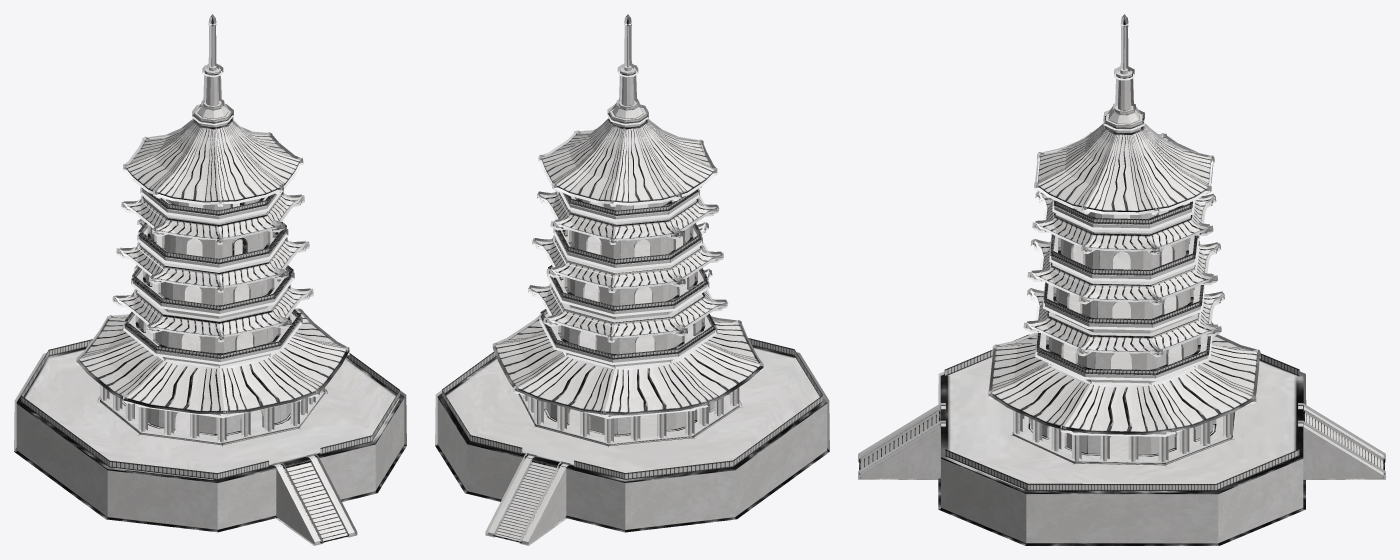
Rendered from SM_LeiFengTa.glb.
The picture shows the model from 3 angles, left to right: view 1: azimuth 30°, elevation 25°; view 2: azimuth 150°, elevation 25°; view 3: azimuth 270°, elevation 25°; orthographic projection. The views are drawn at different scales.
Visible parts, largest first — view 1: SM_leifengta_1, SM_leifengta_1.001; view 2: SM_leifengta_1, SM_leifengta_1.001; view 3: SM_leifengta_1, SM_leifengta_1.001.
Part boxes in pixels (x1=…): SM_leifengta_1: x1=14, y1=14, x2=406, y2=545; SM_leifengta_1.001: x1=21, y1=339, x2=399, y2=479; SM_leifengta_1: x1=435, y1=14, x2=829, y2=545; SM_leifengta_1.001: x1=442, y1=338, x2=822, y2=479; SM_leifengta_1: x1=858, y1=14, x2=1385, y2=545; SM_leifengta_1.001: x1=944, y1=334, x2=1299, y2=490.
Bounding box in the file's own units: 127 × 175 × 183.
Materials: 2 (1 with a texture image).
